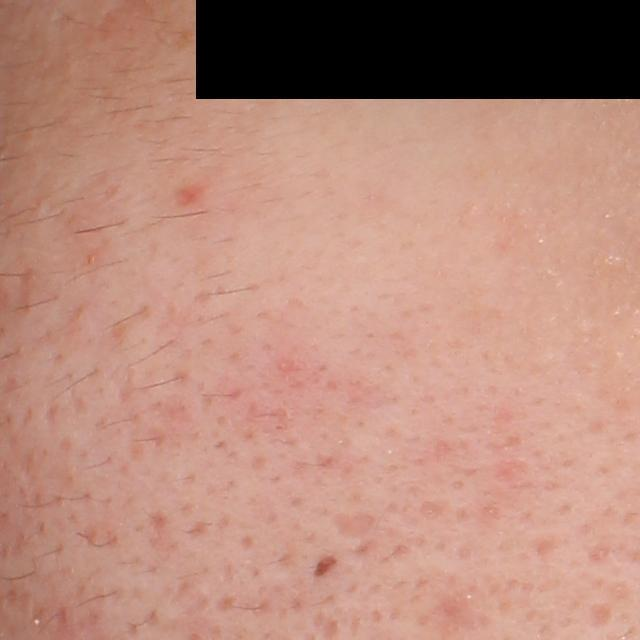atrophic_scar: (331, 511, 378, 541), (579, 595, 613, 632)
nevus: (308, 548, 343, 584)
